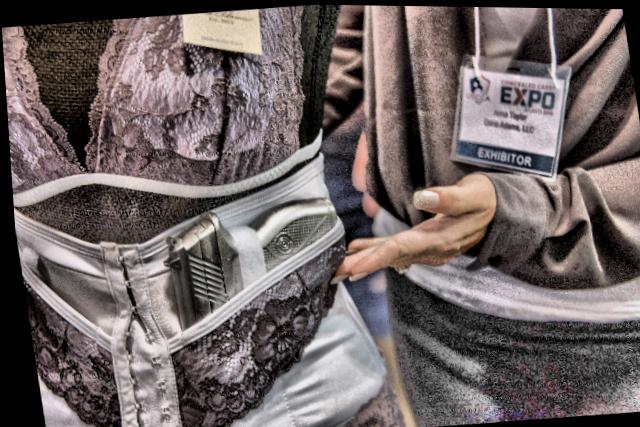pistol: (145, 165, 366, 415)
